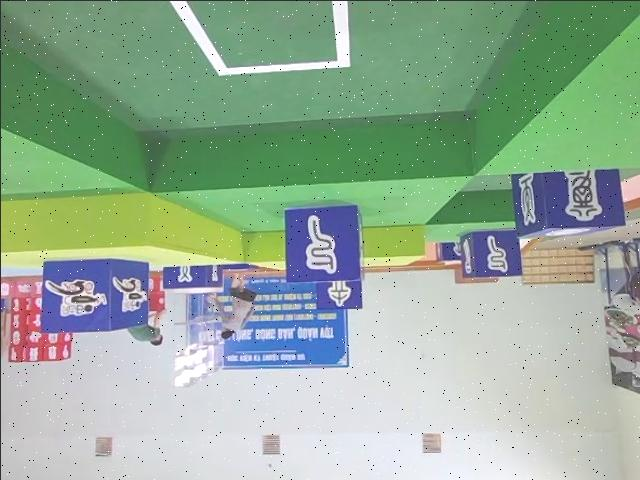R1 Blue: (37, 258, 146, 334)
R2 Fake Blue: (514, 166, 628, 237), (282, 203, 362, 283), (462, 229, 523, 278), (316, 279, 363, 311)
R2 Real Blue: (160, 263, 225, 289)
